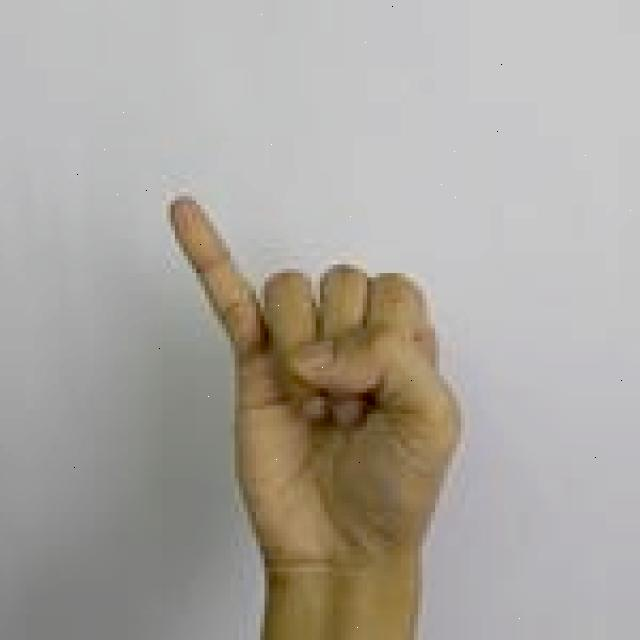I: (158, 188, 468, 640)
